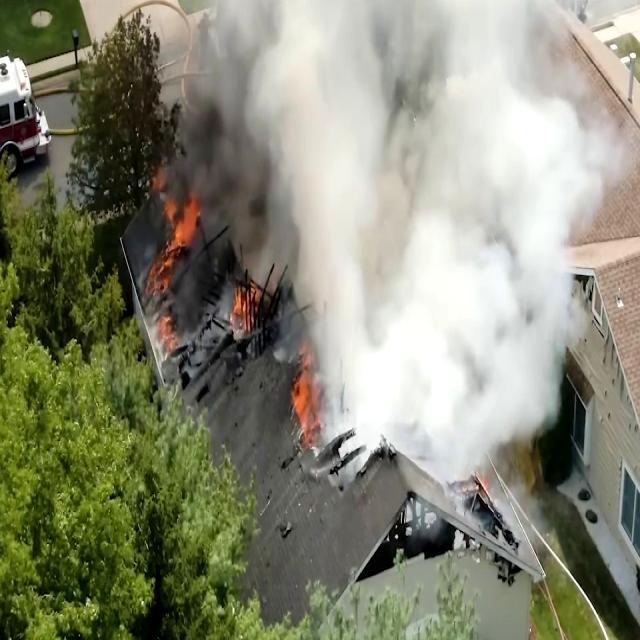smoke: (298, 0, 505, 383)
